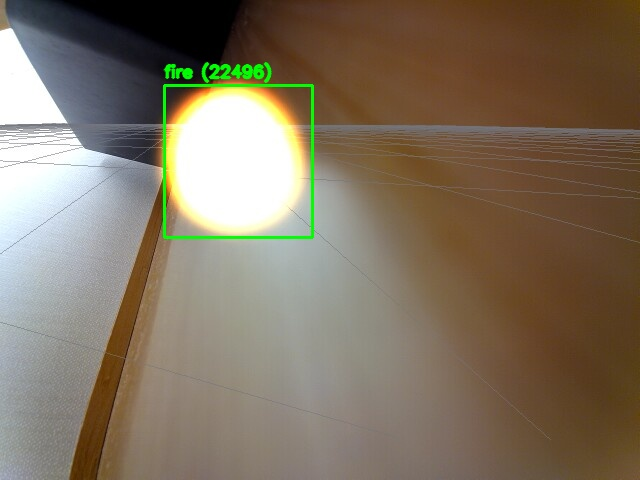fire: (164, 85, 312, 237)
